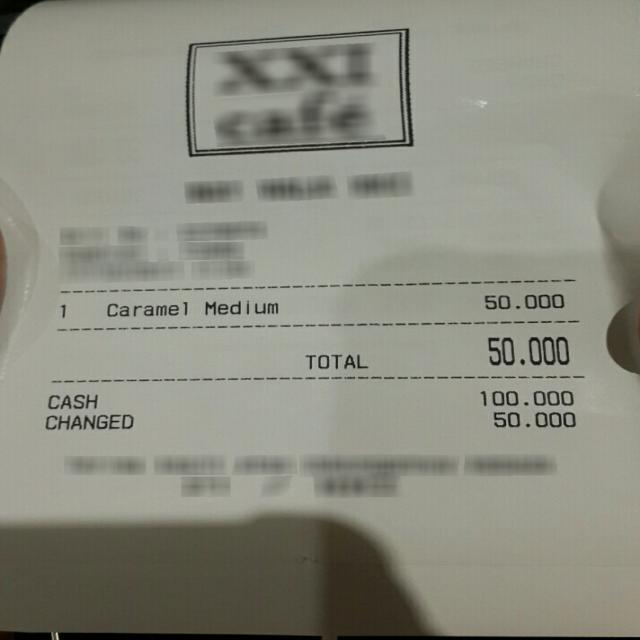text: (486, 334, 568, 364), (480, 390, 572, 404), (494, 410, 574, 426), (44, 414, 131, 428), (484, 293, 562, 308), (106, 301, 186, 315), (204, 299, 277, 314), (303, 354, 367, 368), (47, 393, 95, 408), (60, 301, 68, 320)
